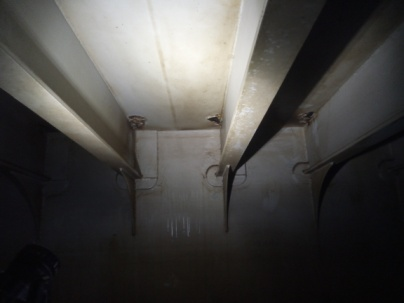corrosion: (124, 107, 154, 139), (199, 111, 229, 139)
